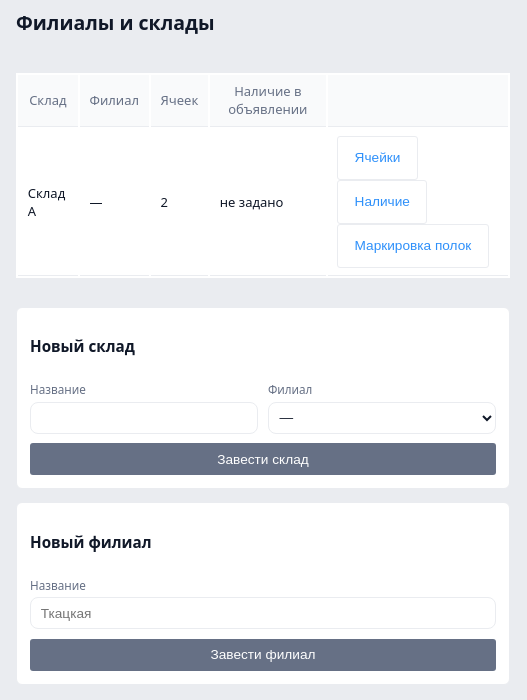
«Маркировка полок склада» › открывается с экрана «Склады» у склада
Expected: the text "Склад А" is shown, [18, 129, 78, 276]
What coordinates should you click on to do the following:
click the button with aria-label "Маркировка полок: Склад А"
I would click on:
 (413, 246)
Its box is [337, 224, 488, 268].
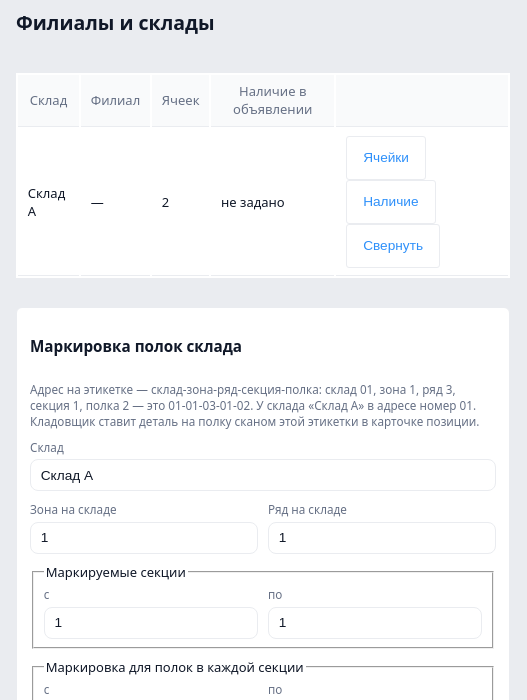
Now the heading "Маркировка полок склада" is shown, box [30, 336, 242, 356]
Now the field labelled "Склад" holds "Склад А", box [30, 459, 496, 491]
